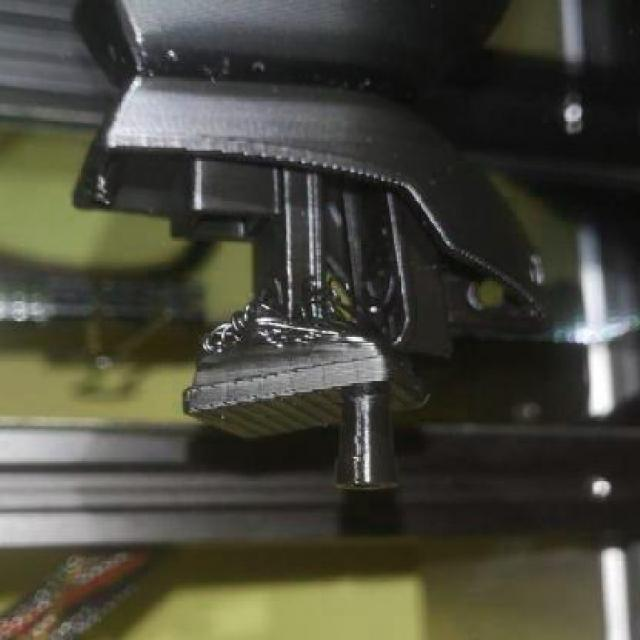spaghetti: (200, 274, 381, 357)
